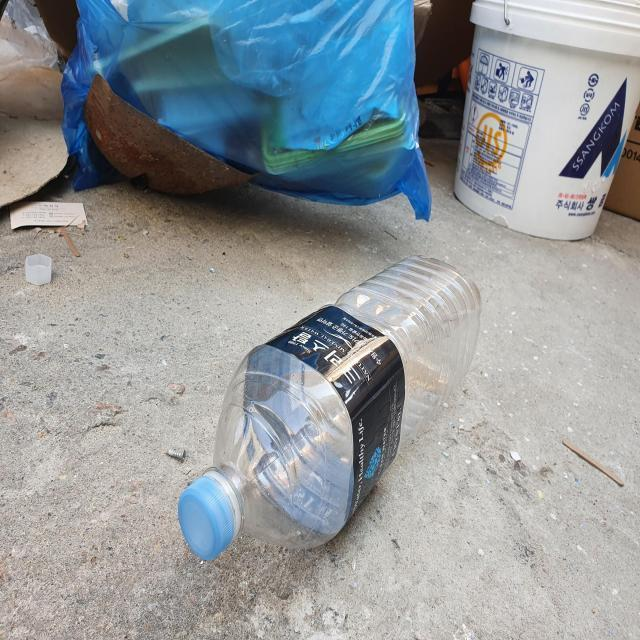plastic_bottle: (178, 254, 482, 562)
